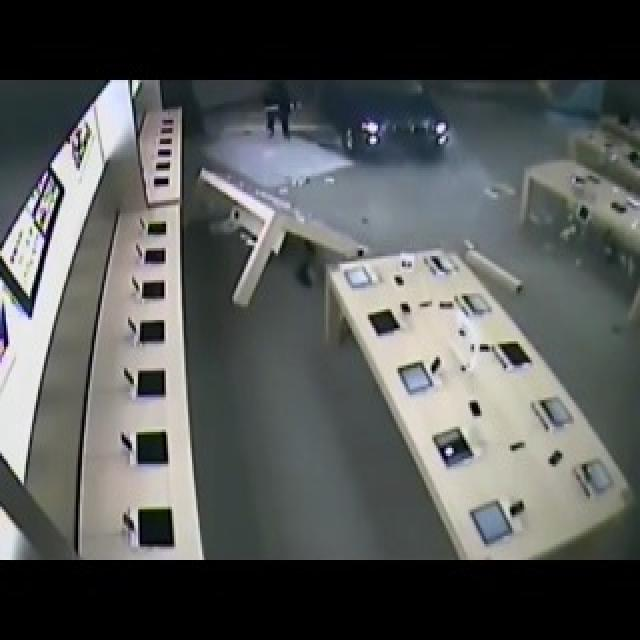thief: (260, 86, 306, 152)
